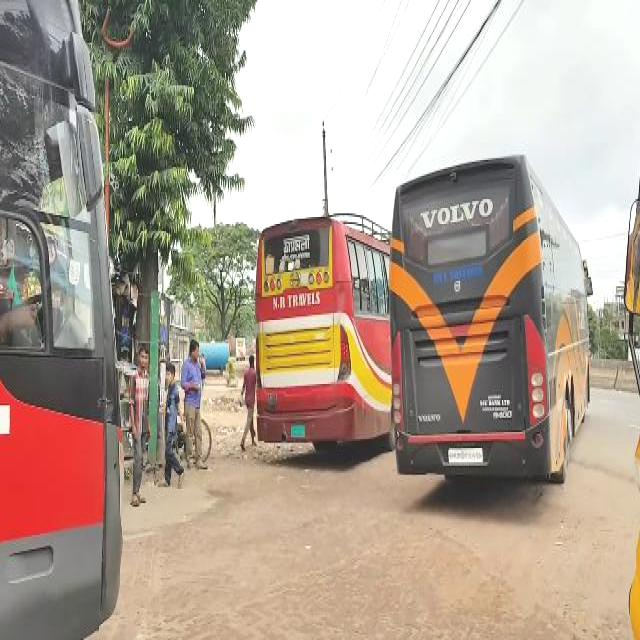BUS: (385, 162, 587, 500), (252, 211, 393, 459)
